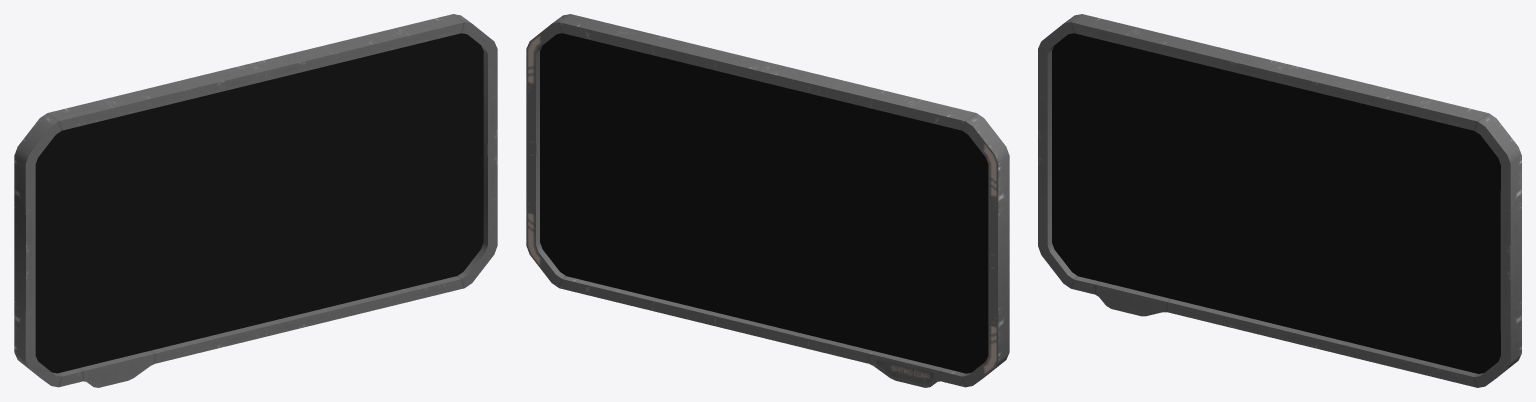
The model's file is SM_Holoscreen_D.FBX.
The picture shows the model from 3 angles, left to right: view 1: azimuth 30°, elevation 25°; view 2: azimuth 150°, elevation 25°; view 3: azimuth 330°, elevation 25°; orthographic projection.
Visible parts, largest first — view 1: SM_Holoscreen_D; view 2: SM_Holoscreen_D; view 3: SM_Holoscreen_D.
Boxes of the visible parts, <box> form: SM_Holoscreen_D: <box>14,14,497,387</box>; SM_Holoscreen_D: <box>526,14,1009,387</box>; SM_Holoscreen_D: <box>1038,14,1521,387</box>.
Size of the model in its own units: 174 by 97.21 by 7.37.
Materials: 1 (1 with a texture image).
